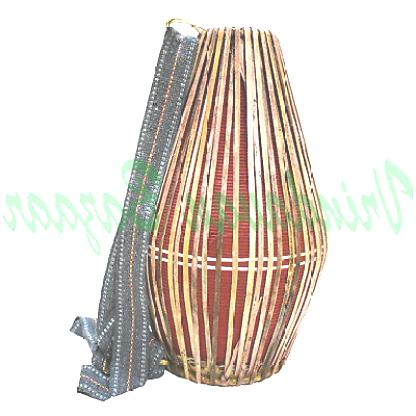Mridangam: (160, 15, 334, 396)
